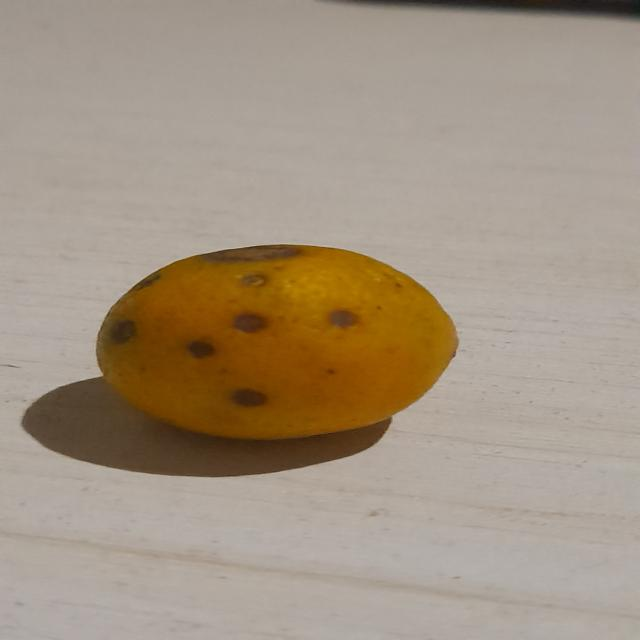black spot: (95, 238, 463, 441)
